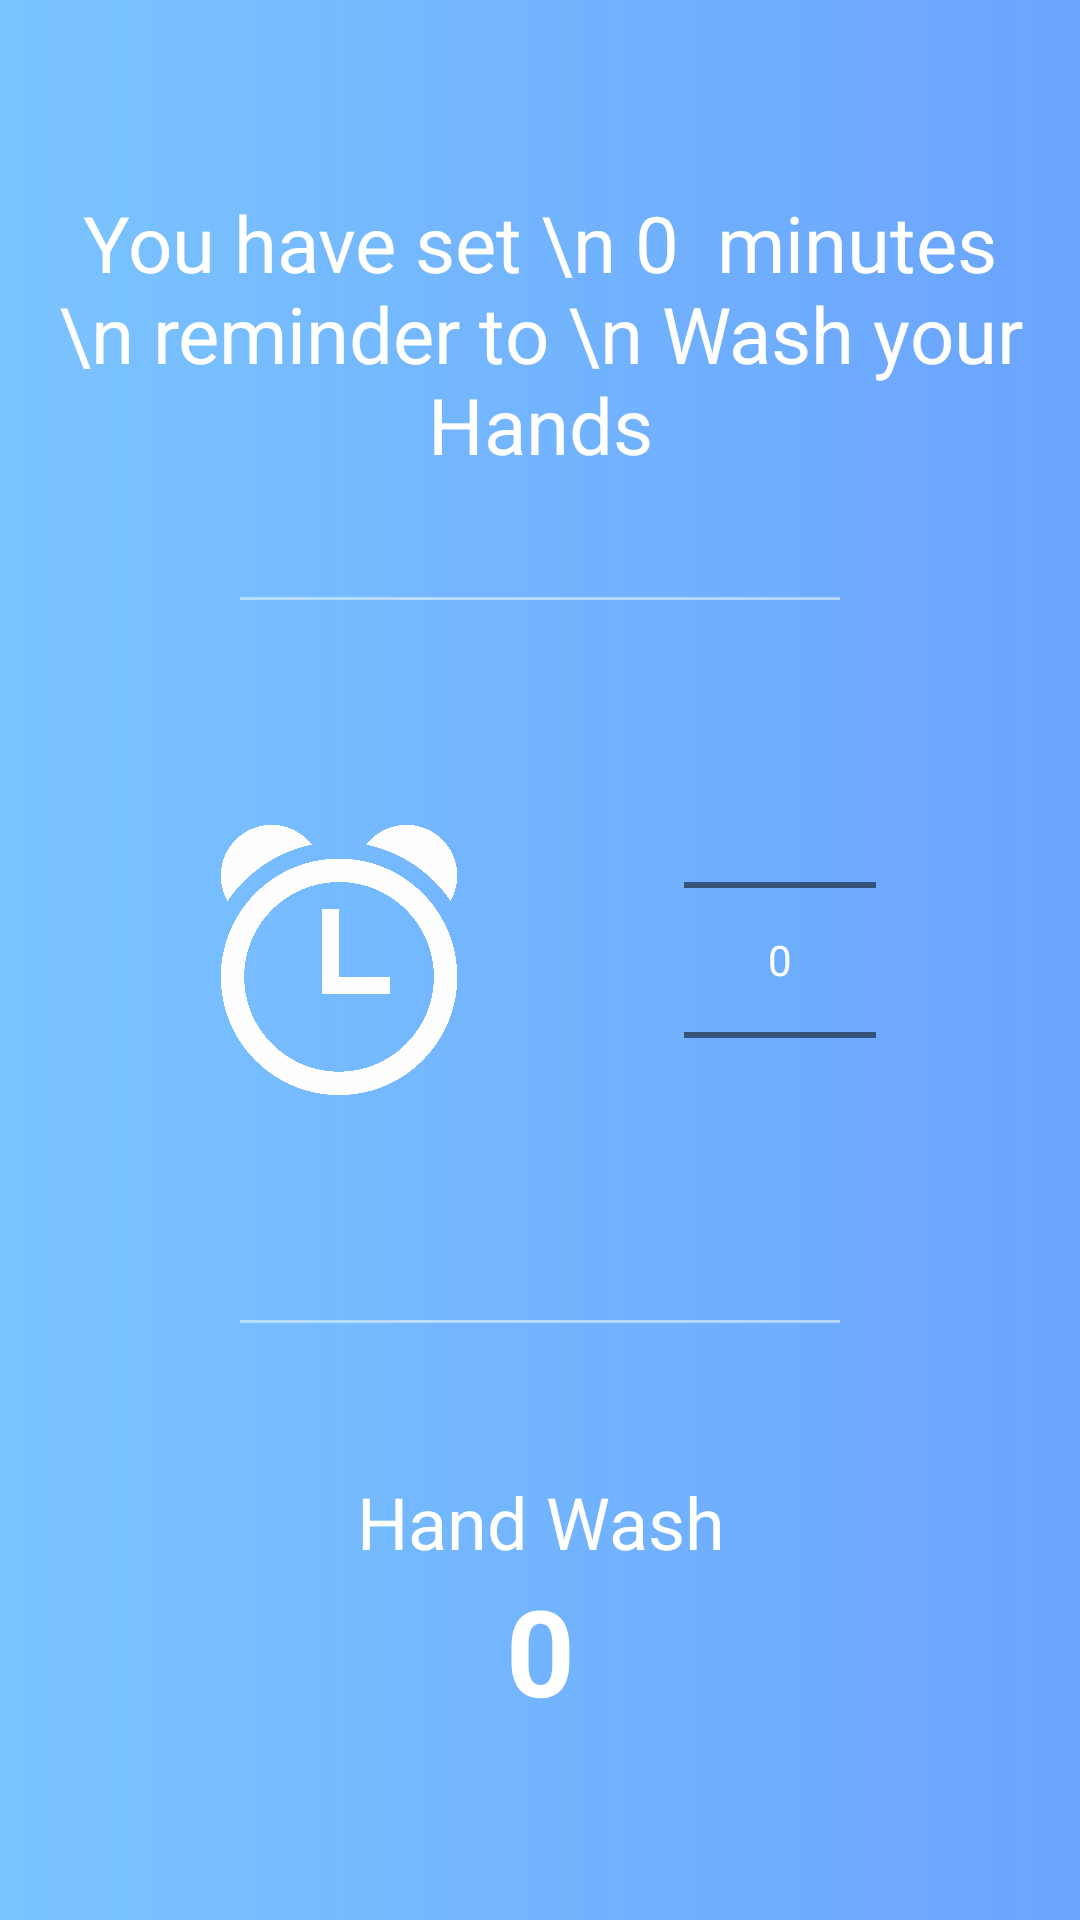

Where icons sit on this 1080w x 1920h app screen, as (x1, y1, x2, y2):
clock: (221, 825, 457, 1095)
